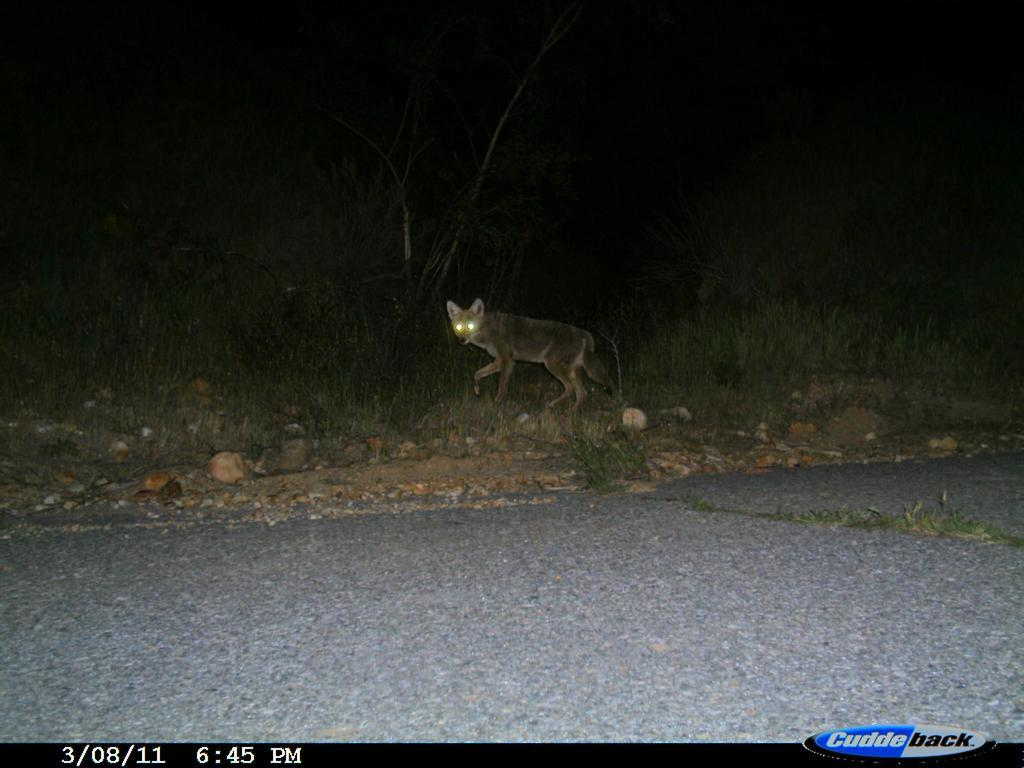coyote: (437, 289, 641, 428)
